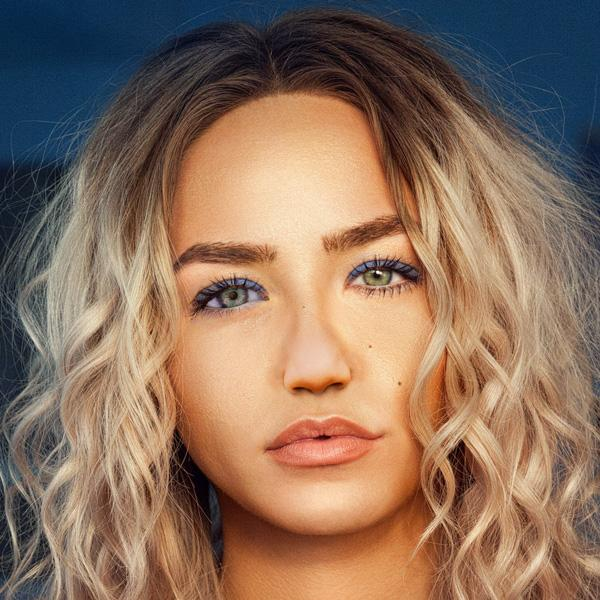Eyes: (326, 249, 429, 307), (184, 270, 280, 332)
